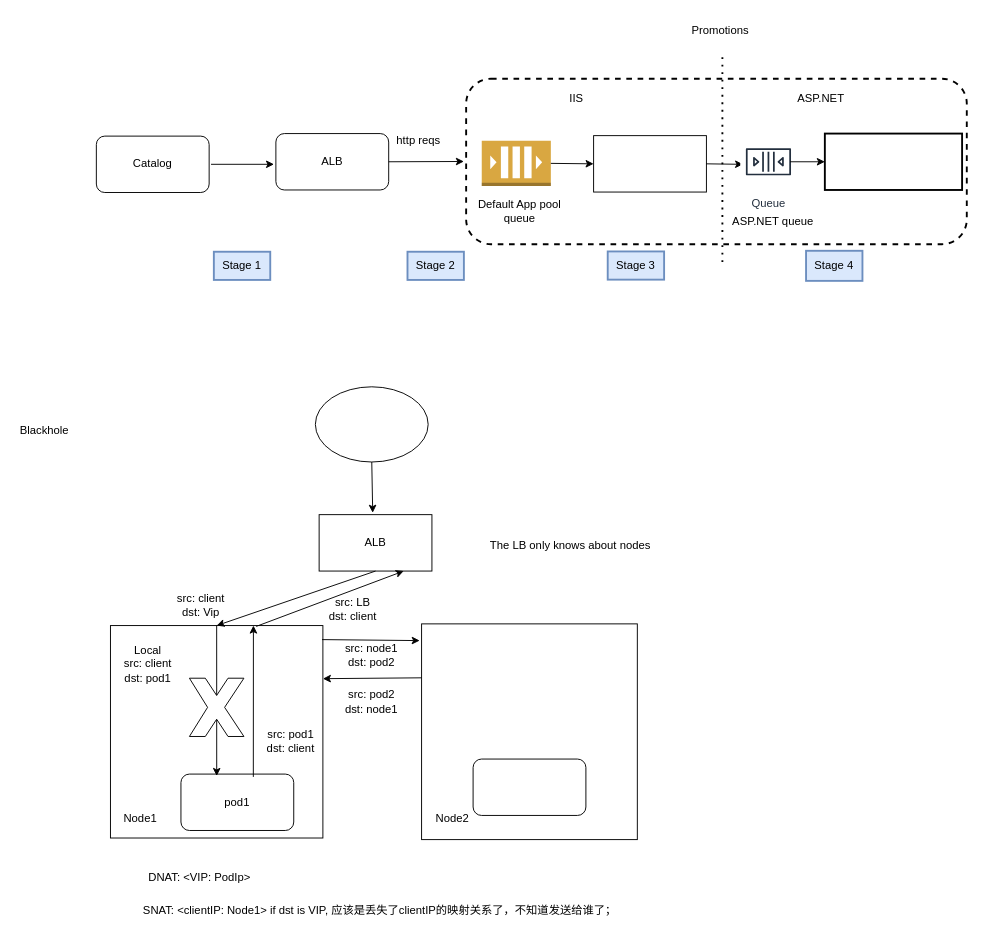
Image size: 983x941. Some labels were removed from this diagram. The shapes that lost their labels are listed below. From the top down, each one's box as (x1, y1, x2, y2) in pixels, then its label:
(593, 135, 706, 192): IIS thread pool
(823, 132, 963, 190): CLR thread pool
(314, 386, 428, 462): client
(472, 758, 586, 815): Pod2
